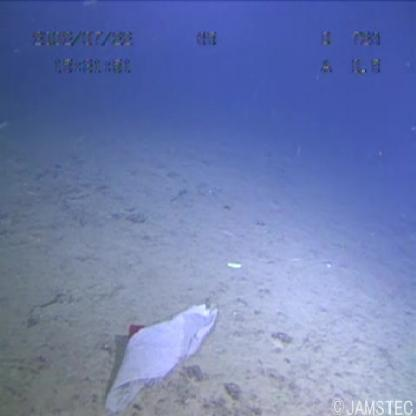Rác: (90, 298, 238, 416)
